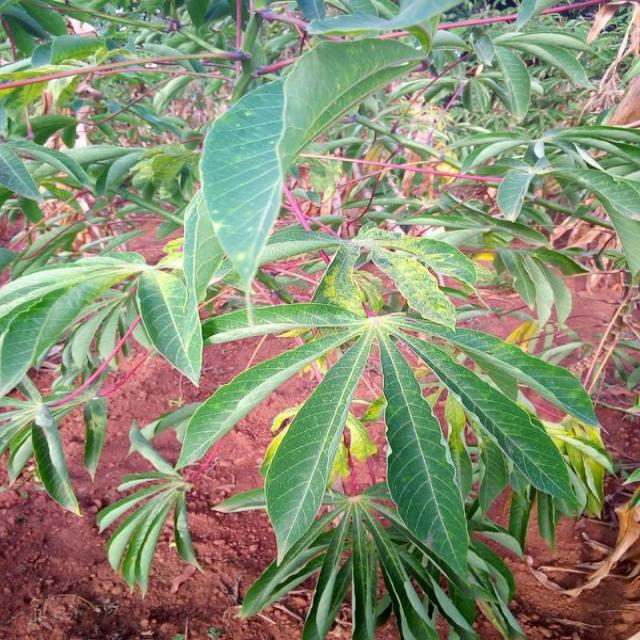cassava leaf: (198, 34, 426, 290), (262, 326, 374, 566), (376, 325, 471, 592), (198, 77, 286, 290)
